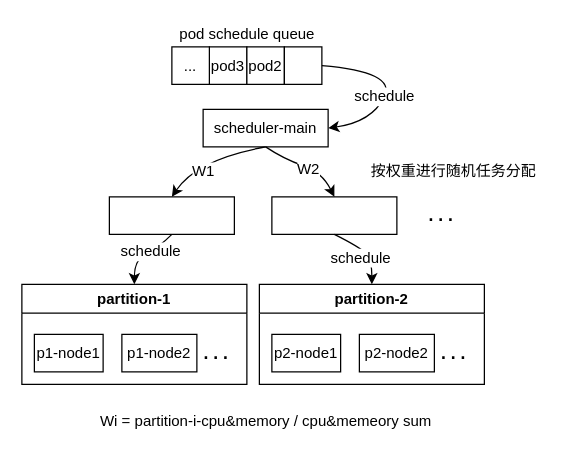
Image size: 569x455. Some labels were removed from this diagram. Each missing label, with the centre of its shape:
"kube-scheduler1" belongs at point (171, 215).
"kube-scheduler2" belongs at point (334, 215).
"pod1" belongs at point (302, 65).
